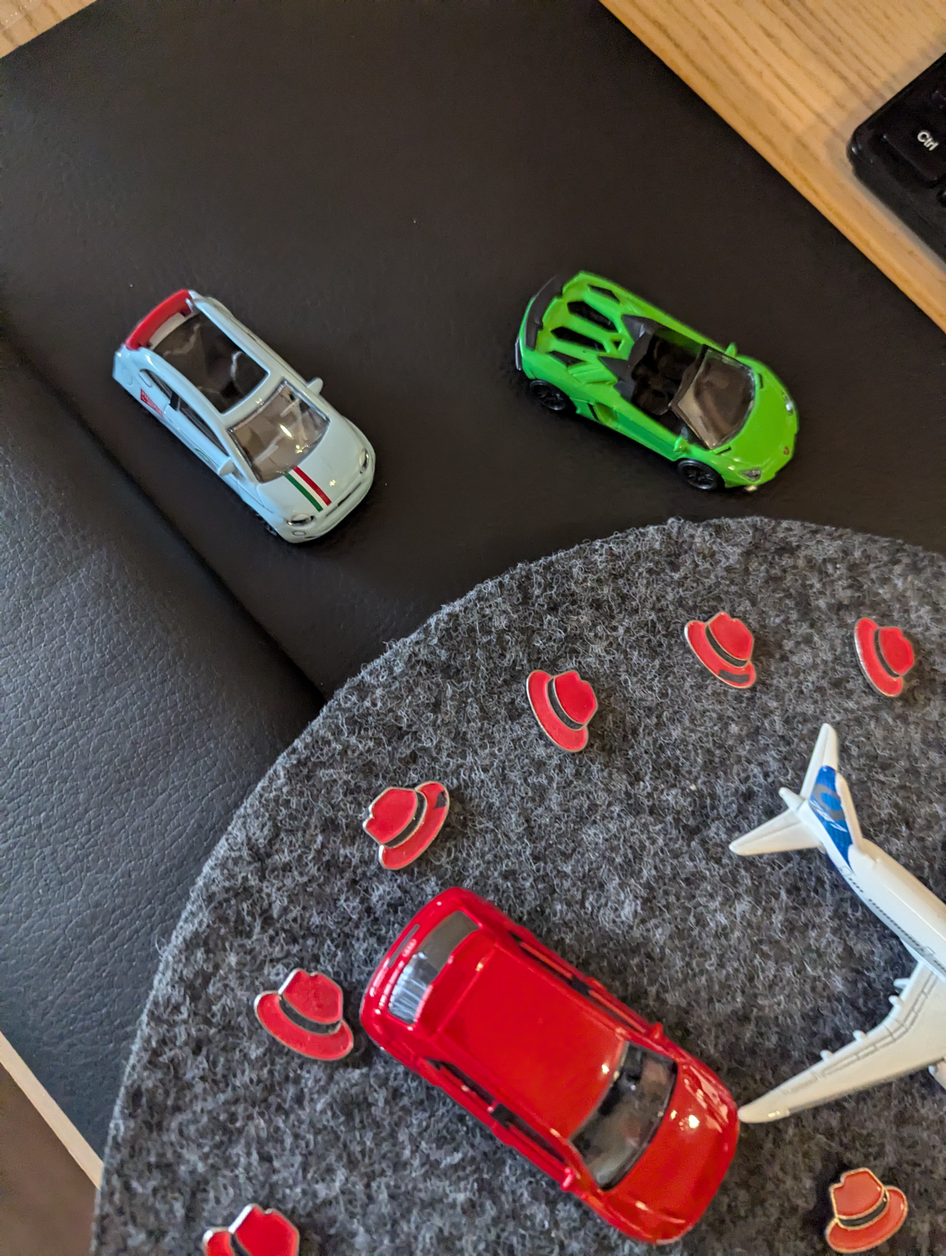Airplane: (698, 718, 946, 1170)
Car: (331, 863, 758, 1256), (76, 264, 446, 569), (492, 251, 822, 511)
Red-Hat: (241, 955, 372, 1068), (666, 595, 789, 713), (348, 760, 474, 875), (827, 590, 933, 715), (799, 1155, 928, 1256), (512, 644, 610, 760), (189, 1183, 312, 1256)
Scratch: (696, 652, 775, 691), (417, 776, 463, 820)
